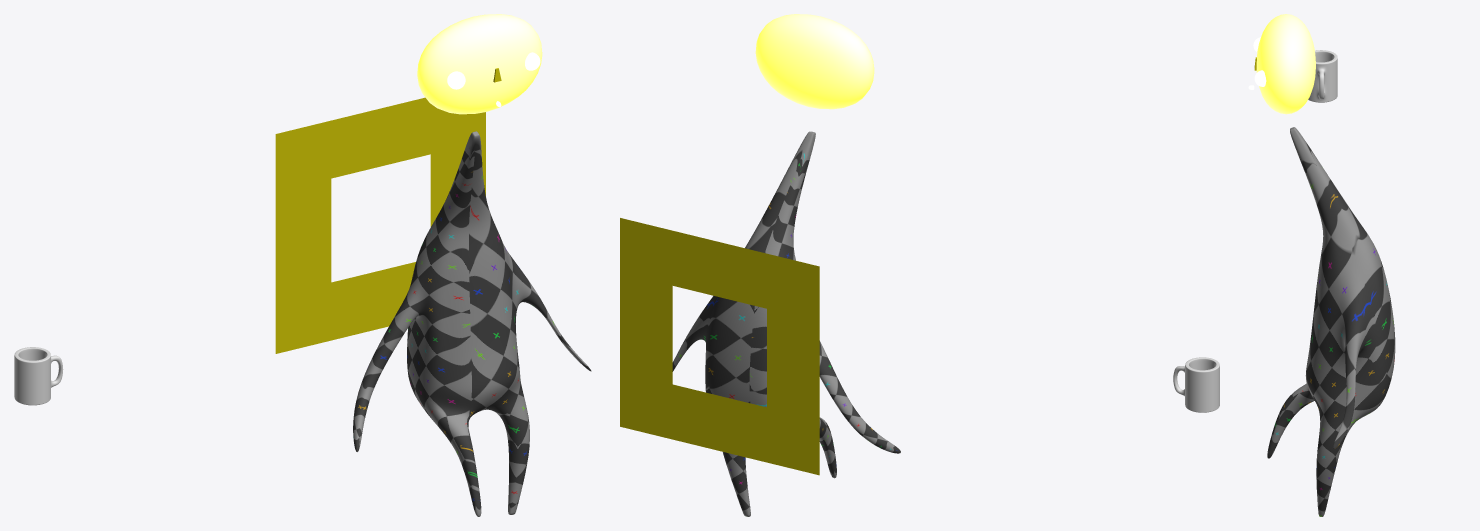
The model's file is parts.356ba0bf.glb.
3 renders of one model, left to right at view 1: azimuth 30°, elevation 25°; view 2: azimuth 150°, elevation 25°; view 3: azimuth 270°, elevation 25°, orthographic. The views are drawn at different scales.
Parts seen in each view (by area): view 1: body, square, face, cup; view 2: square, body, face, cup; view 3: body, face, cup.
Boxes of the visible parts, x1,y1,x2,y2 form: body: (353,131,591,516); square: (275,97,485,353); face: (417,14,542,114); cup: (14,347,63,405); square: (620,218,819,475); body: (672,131,900,516); face: (755,14,874,109); cup: (1173,357,1219,412); body: (1267,127,1395,516); face: (1256,14,1315,114); cup: (1308,50,1337,102).
Bounding box in the file's own units: 36 × 30.93 × 12.94.
5 materials, 1 textured.
